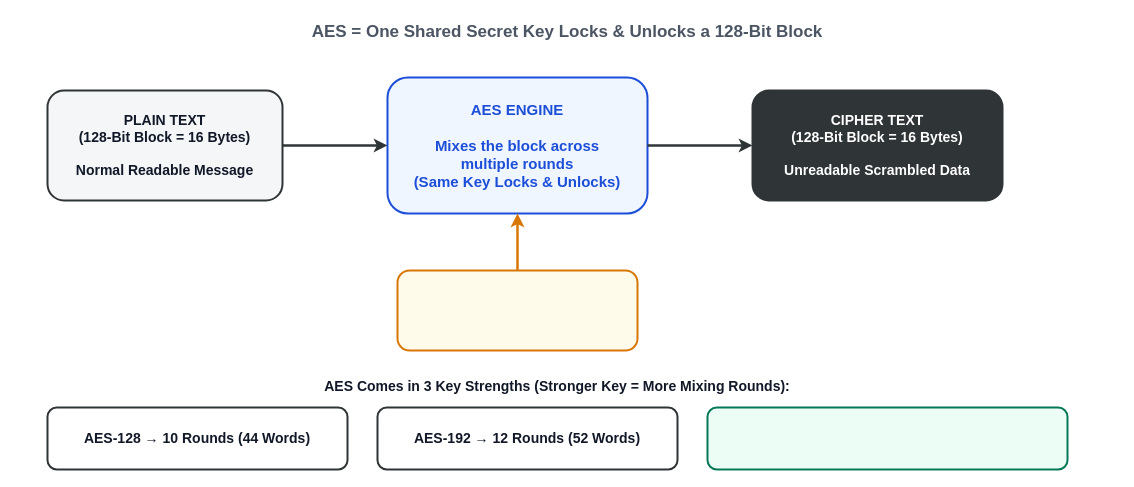
Image size: 1134x487. Some labels were removed from this diagram. The centre of each missing label's shape, as x and y in pixels:
"AES-256 → 14 Rounds (Used in Our App!)" belongs at pixel 887 438.
"SECRET KEY 128 / 192 / 256 Bits (Shared by Sender & Receiver)" belongs at pixel 517 310.
